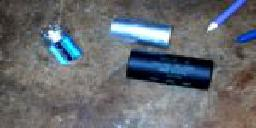Electrolytic Capacitor: (122, 47, 227, 96), (30, 15, 92, 74), (105, 12, 188, 50)
